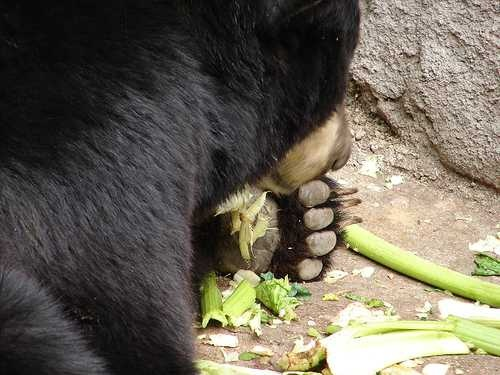bear: (243, 77, 371, 205), (214, 161, 342, 289)
